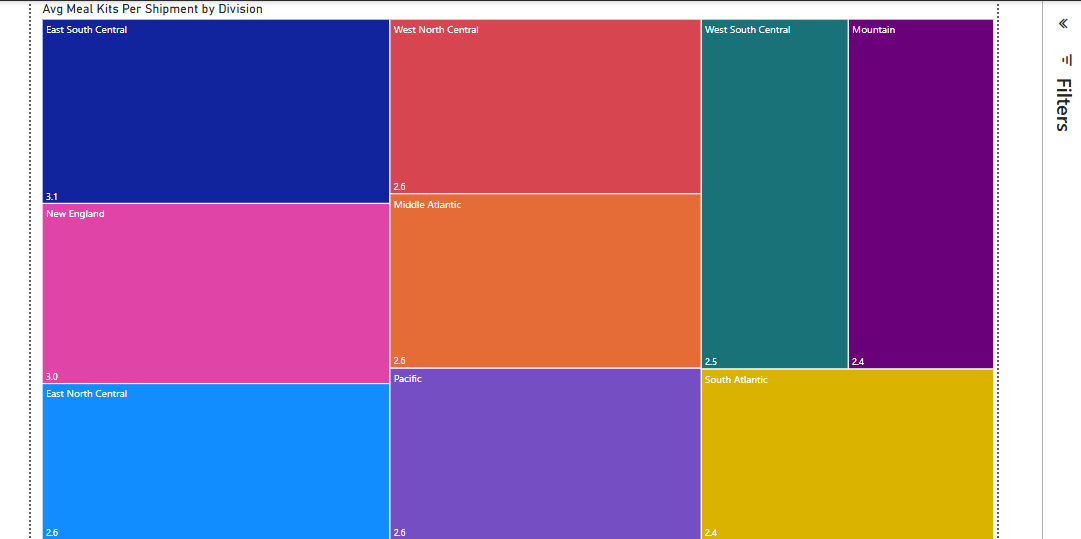

What the dashboard file says about the page in this screenshot:
{"tool":"powerbi","page":{"name":"Avg Meal Kits Per Shipment","canvas":[1280,720],"ordinal":0},"visuals":[{"type":"treemap","fields":{"Values":["Shipping Details.Avg Meal Kits Per Shipment"],"Details":["States.Division"]},"box":[9.5,0,1270.5,719.5],"z":0}]}

Visuals, with their boxes on the page's 1280x720 design canvas (x1, y1, x2, y2). These are canvas units, not pixel positions in the 1081x539 screenshot, which may show the page scaled, cropped or inside an application window:
treemap - Shipping Details.Avg Meal Kits Per Shipment x States.Division: 10:0:1280:720
